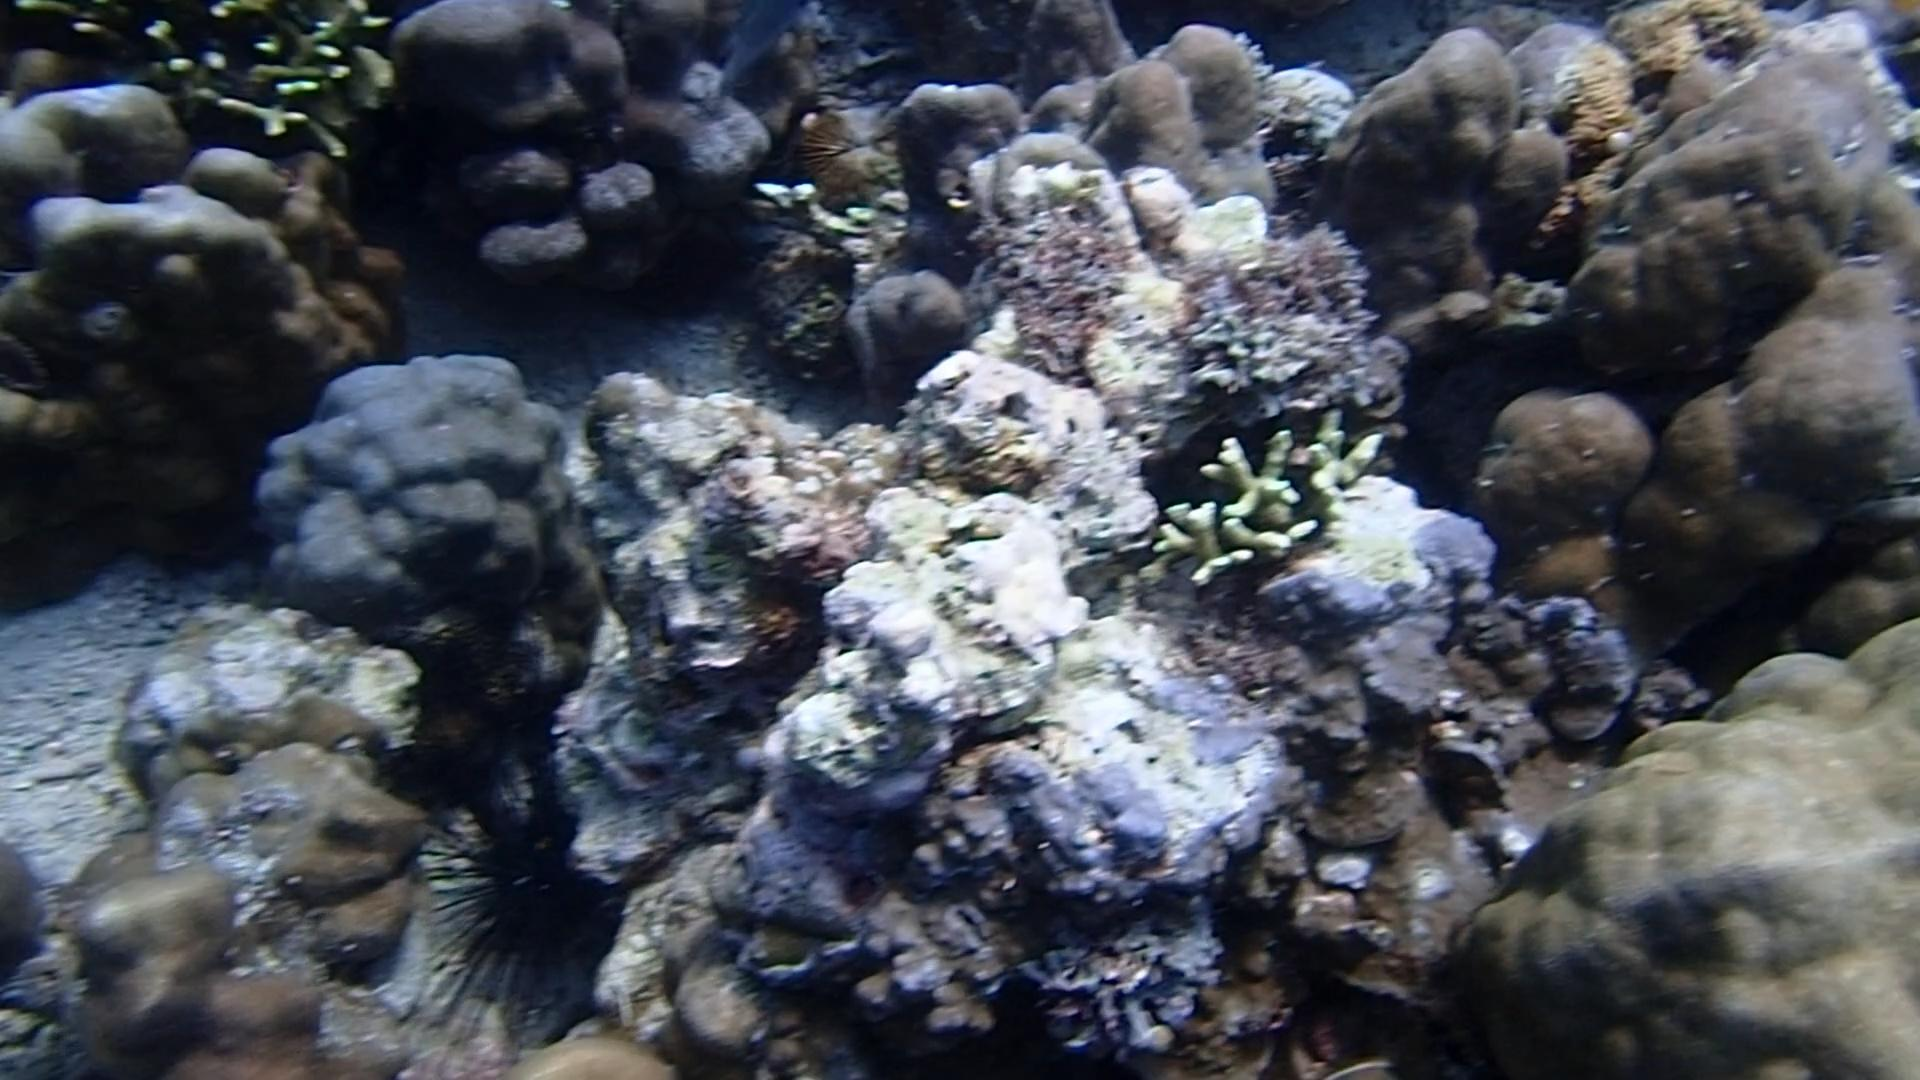Blue Fish Two: (702, 0, 807, 98)
